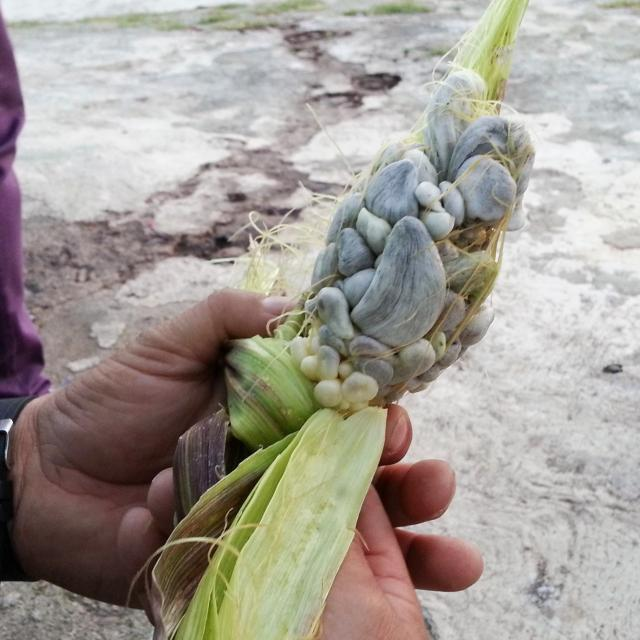Leaf_Scald: (218, 66, 560, 433)
